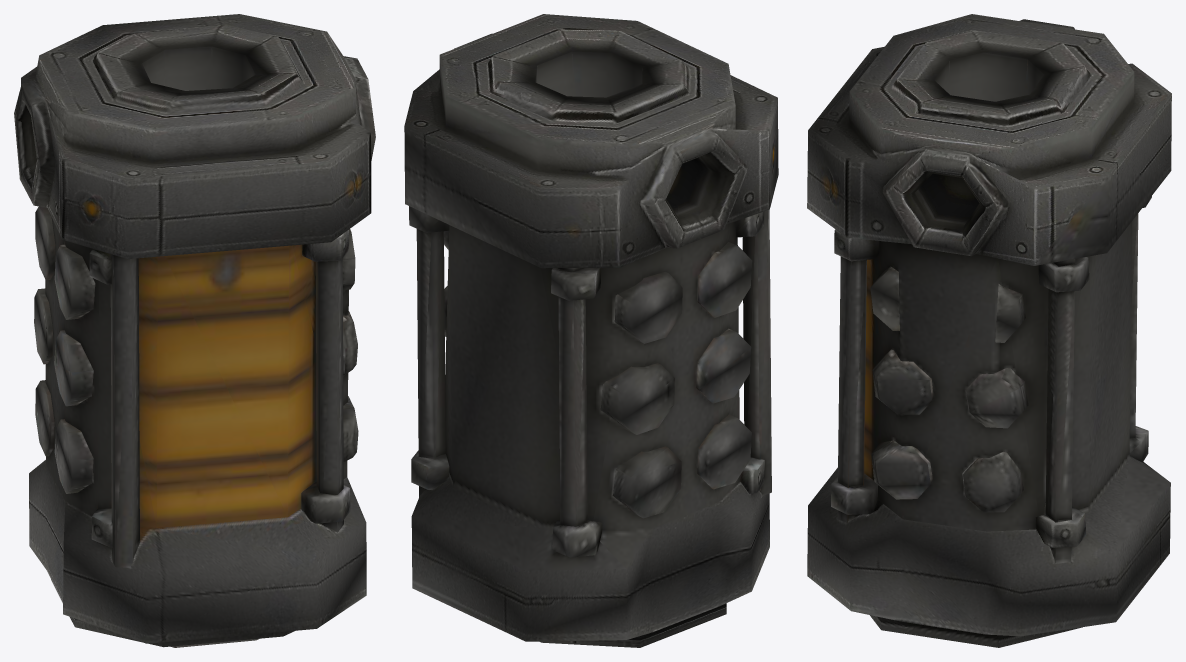
File: cold-iron-v2-battery-b-cell-bank.glb
The picture shows the model from 3 angles, left to right: view 1: azimuth 30°, elevation 25°; view 2: azimuth 150°, elevation 25°; view 3: azimuth 270°, elevation 25°; orthographic projection. The views are drawn at different scales.
Parts seen in each view (by area): view 1: tripo_node_52962905-ec98-4871-af4b-589b348a48eb; view 2: tripo_node_52962905-ec98-4871-af4b-589b348a48eb; view 3: tripo_node_52962905-ec98-4871-af4b-589b348a48eb.
Part boxes in pixels (<box>): tripo_node_52962905-ec98-4871-af4b-589b348a48eb: <box>14,14,375,647</box>; tripo_node_52962905-ec98-4871-af4b-589b348a48eb: <box>404,14,778,647</box>; tripo_node_52962905-ec98-4871-af4b-589b348a48eb: <box>807,14,1171,647</box>.
Size of the model in its own units: 0.6093 by 1 by 0.6205.
Materials: 1 (1 with a texture image).
